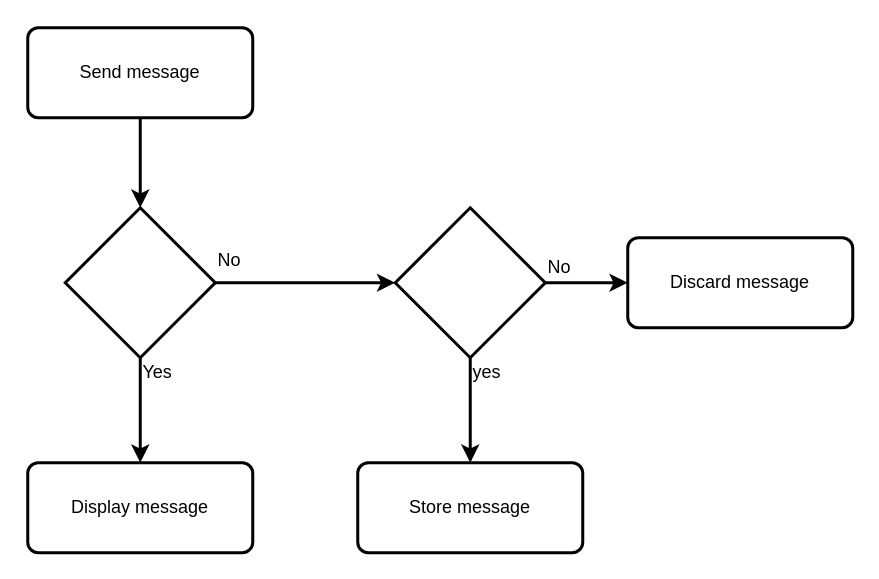
This 879x579 diagram has some shape labels left out. The centre of each missing label's shape, as x and y in pixels:
Message ahead?: (469,282)
Message in order?: (139,282)
